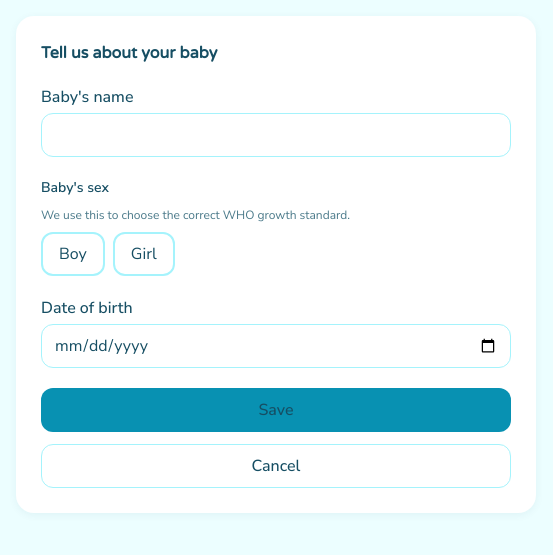
Test case: ChildForm — ADD mode › missing sex → submit blocked, error shown
This screenshot has width=553, height=555.
Type "Alice" into the field labelled "Baby's name" at x=276, y=135, box [41,113,511,157]
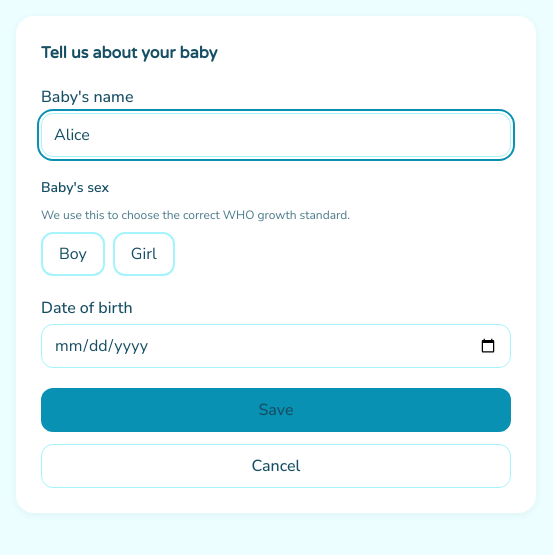
Type "2024-01-15" into the date field labelled "Date of birth" at x=276, y=346, box [41,324,511,368]
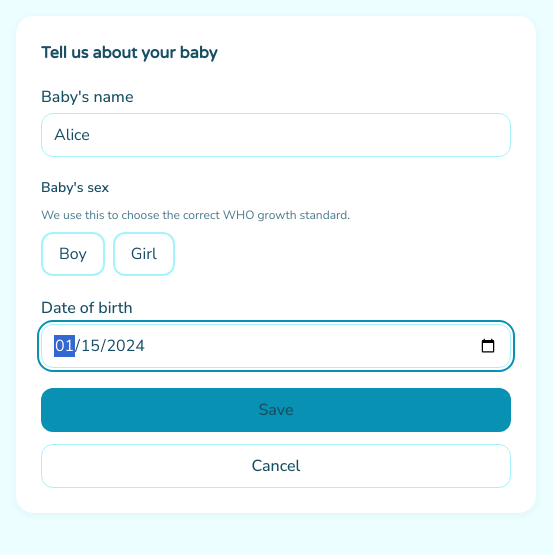
Click the button "Save" at x=276, y=410, box [41,388,511,432]
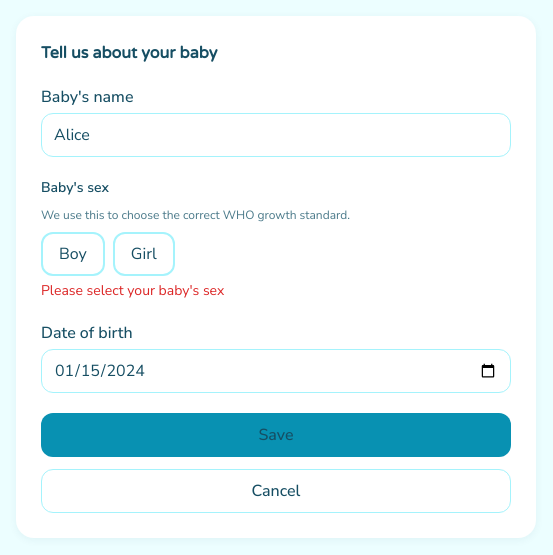
Check: the message "Please select your baby's sex" is shown, box [41,281,224,300]
